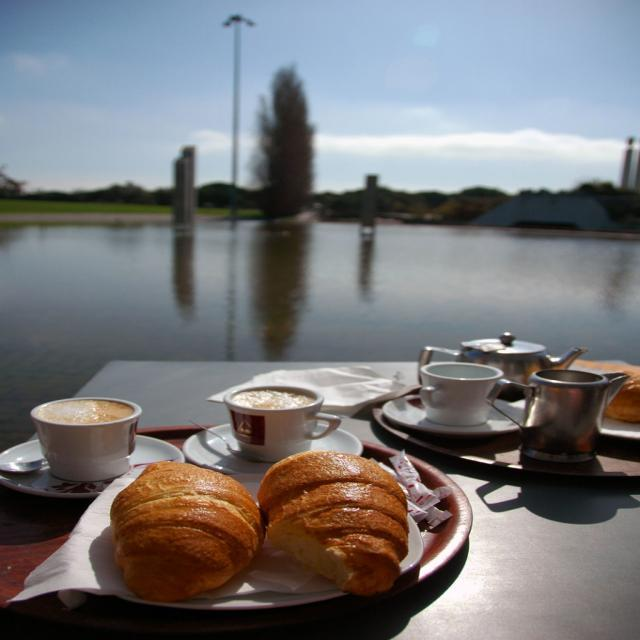Croissant: (253, 450, 410, 596), (98, 483, 257, 609)
